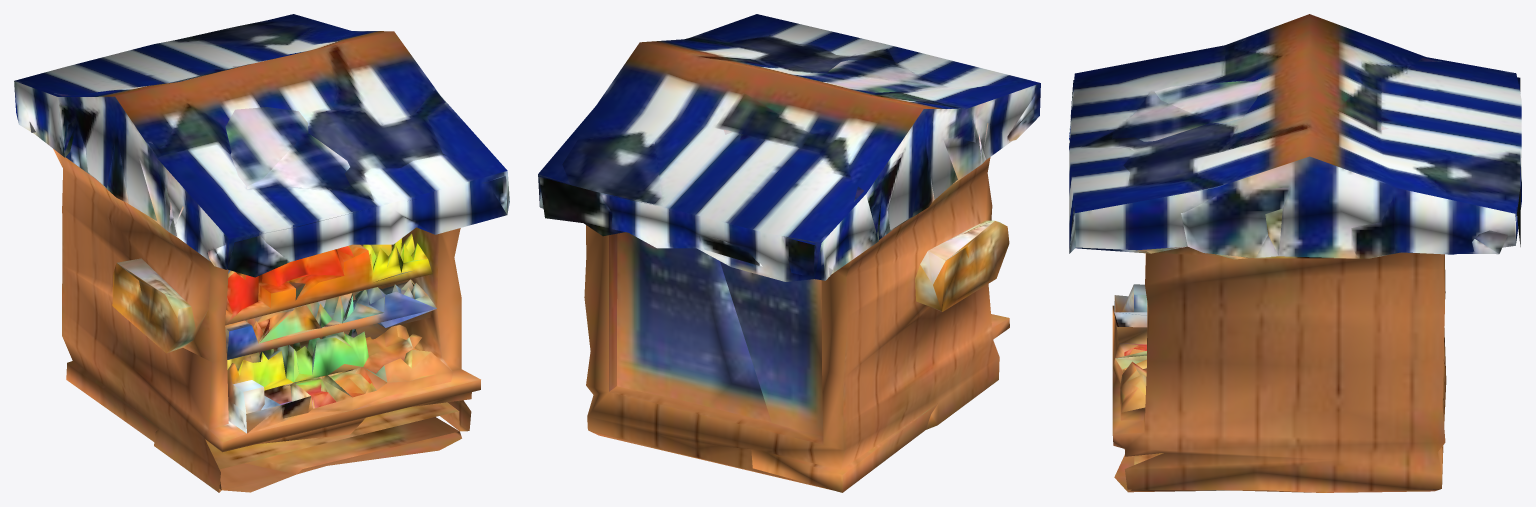
The model's file is kiosk-blue.glb.
The picture shows the model from 3 angles, left to right: view 1: azimuth 30°, elevation 25°; view 2: azimuth 150°, elevation 25°; view 3: azimuth 270°, elevation 25°; orthographic projection. The views are drawn at different scales.
Parts seen in each view (by area): view 1: kiosk; view 2: kiosk; view 3: kiosk.
Part boxes in pixels (left/top/right/bottom): kiosk: left=14, top=14, right=509, bottom=492; kiosk: left=538, top=14, right=1040, bottom=492; kiosk: left=1069, top=14, right=1521, bottom=492.
Size of the model in its own units: 3.06 by 3.4 by 4.
1 material, 1 textured.
